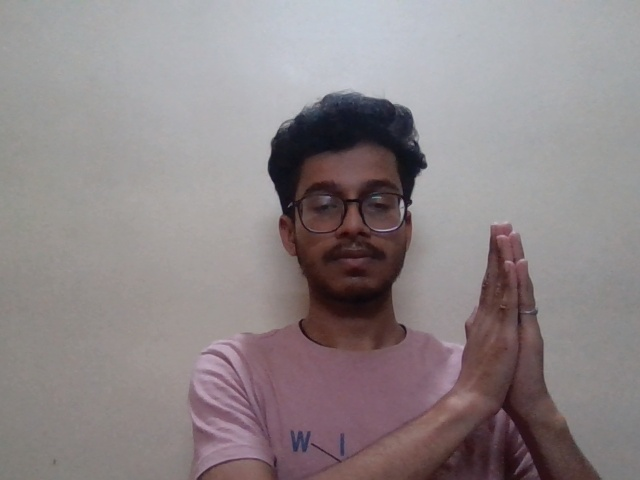please: (435, 216, 571, 428)
